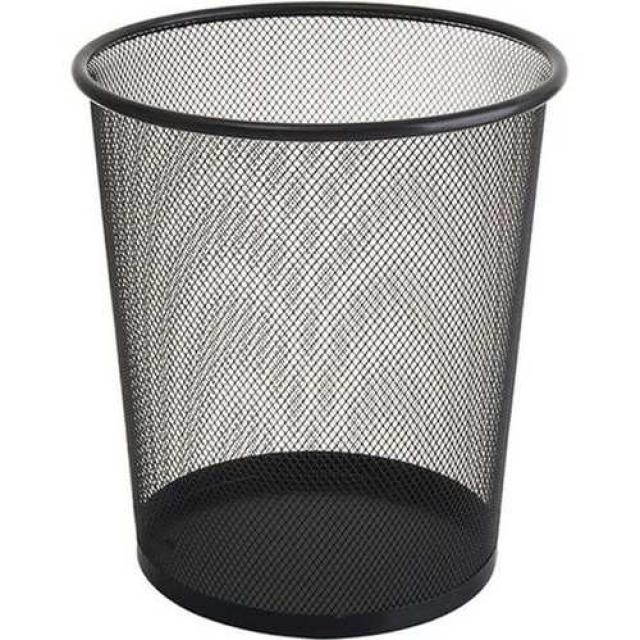dustbin: (70, 0, 574, 640)
